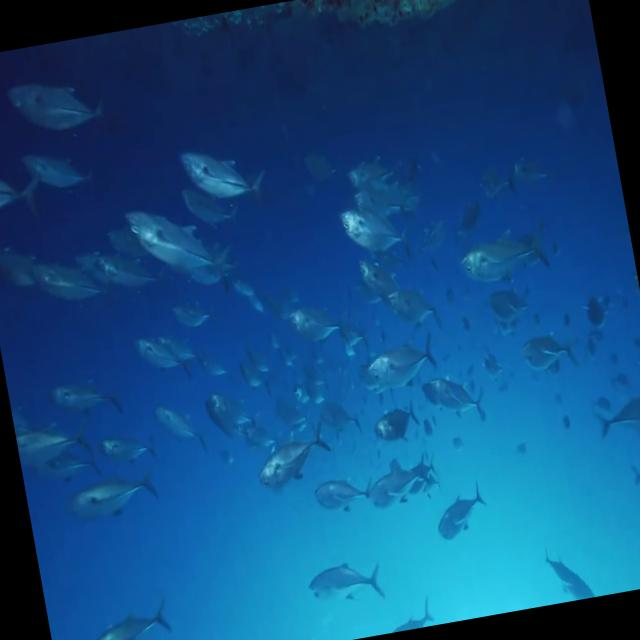fish: (125, 198, 230, 298), (5, 68, 110, 142), (178, 140, 266, 216), (455, 224, 553, 290), (249, 417, 334, 491), (359, 331, 442, 394), (338, 198, 417, 264), (306, 556, 386, 606), (76, 599, 173, 640), (428, 481, 491, 542)
